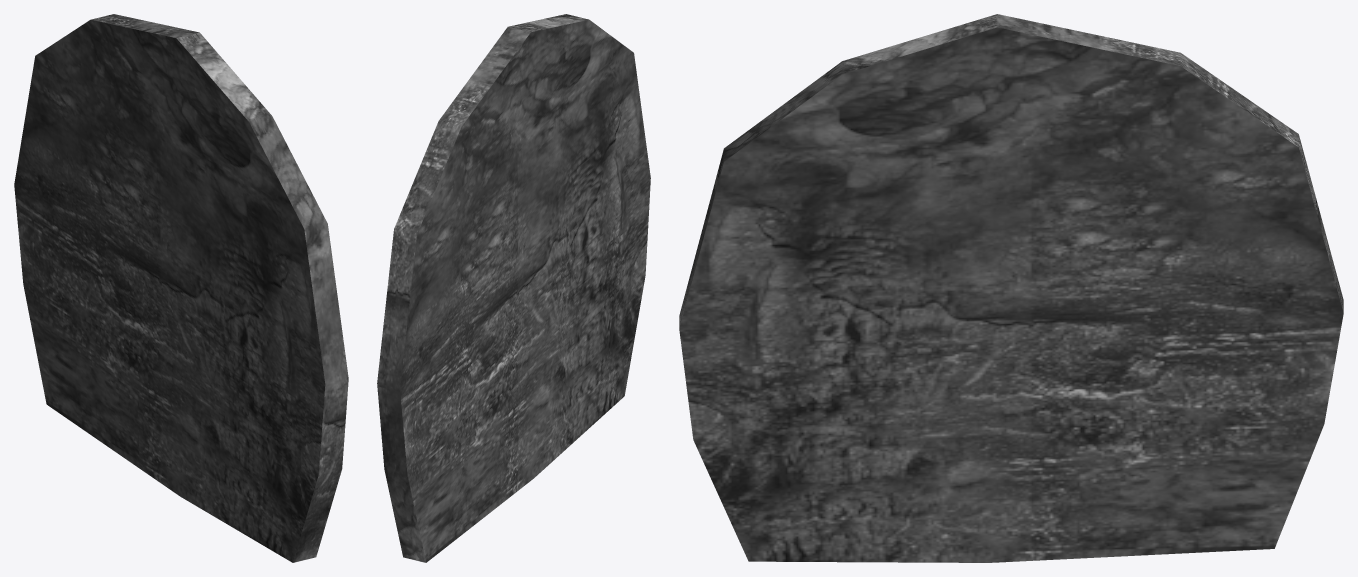
The model's file is cavecloser.fbx.
3 renders of one model, left to right at view 1: azimuth 30°, elevation 25°; view 2: azimuth 150°, elevation 25°; view 3: azimuth 270°, elevation 25°, orthographic. The views are drawn at different scales.
Parts seen in each view (by area): view 1: cavecloser; view 2: cavecloser; view 3: cavecloser.
Part boxes in pixels (x1,y1,x2,y2): cavecloser: (14,14,348,562); cavecloser: (377,14,650,562); cavecloser: (679,14,1343,562).
Size of the model in its own units: 10.74 by 90.67 by 102.
Materials: 1 (1 with a texture image).
